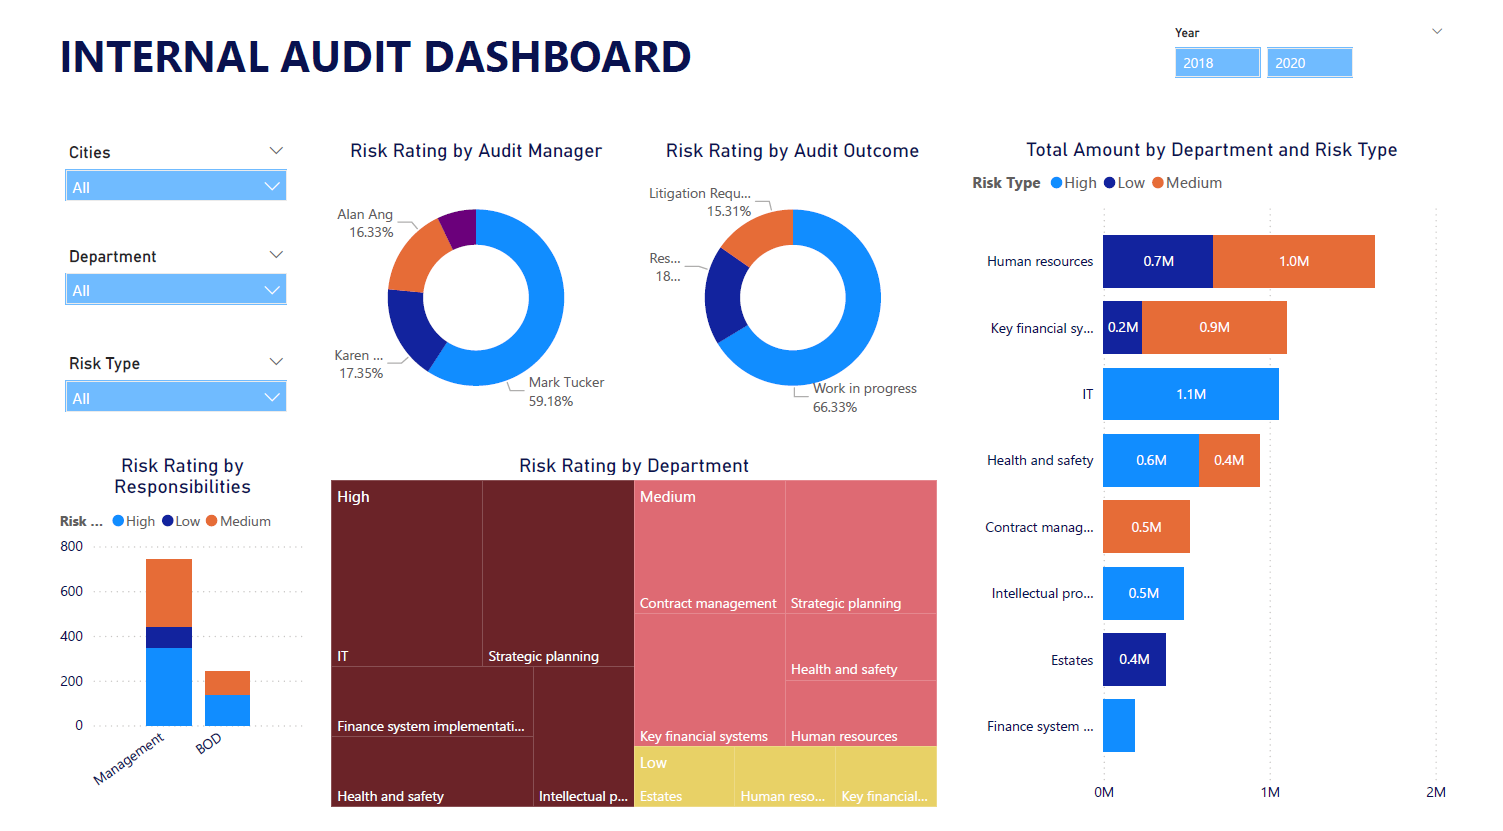

The dashboard page shown, as its layout file describes it:
{"tool":"powerbi","page":{"name":"Internal Audit Dashboard","canvas":[1280,720],"ordinal":0},"visuals":[{"type":"textbox","box":[40.4,14.4,600.2,63.5],"z":0},{"type":"slicer","fields":{"Values":["Internal Audit Dashboard.Year"]},"box":[1001.1,13.7,257.5,74.7],"z":1000},{"type":"slicer","fields":{"Values":["Internal Audit Dashboard.Cities"]},"box":[41.1,115.8,211.8,76.2],"z":2000},{"type":"slicer","fields":{"Values":["Internal Audit Dashboard.Department"]},"box":[41.1,205.7,211.8,76.2],"z":3000},{"type":"slicer","fields":{"Values":["Internal Audit Dashboard.Risk Type"]},"box":[41.1,298.7,211.8,76.2],"z":4000},{"type":"donutChart","title":"Risk Rating by Audit Manager","fields":{"Y":["Internal Audit Dashboard.Risk Rating"],"Category":["Internal Audit Dashboard.Assigned Audit Manager","Internal Audit Dashboard.Risk Type"]},"box":[277.3,117.3,260.6,257.5],"z":5000},{"type":"donutChart","title":"Risk Rating by Audit Outcome","fields":{"Y":["Internal Audit Dashboard.Risk Rating"],"Category":["Internal Audit Dashboard.Audit Outcome","Internal Audit Dashboard.Risk Type"]},"box":[551.6,117.3,260.6,257.5],"z":6000},{"type":"barChart","fields":{"Category":["Internal Audit Dashboard.Department"],"Series":["Internal Audit Dashboard.Risk Type"],"Y":["Internal Audit Dashboard.Total Amount "]},"box":[833.4,115.8,425.7,586.1],"z":8000},{"type":"treemap","title":"Risk Rating by Department","fields":{"Group":["Internal Audit Dashboard.Risk Type","Internal Audit Dashboard.Responsibilities"],"Details":["Internal Audit Dashboard.Department"],"Values":["Internal Audit Dashboard.Risk Rating"]},"box":[277.3,390.1,534.9,312.4],"z":9000},{"type":"columnChart","title":"Risk Rating by Responsibilities","fields":{"Category":["Internal Audit Dashboard.Responsibilities"],"Series":["Internal Audit Dashboard.Risk Type"],"Y":["Internal Audit Dashboard.Risk Rating"]},"box":[41.1,390.1,222.5,312.4],"z":10000}]}

Visuals, with their boxes in screenshot pixels (x1, y1, x2, y2), scaled from the page's 1280x720 canvas onto the 1503x831 screenshot:
textbox: (x1=47, y1=17, x2=752, y2=90)
slicer - Internal Audit Dashboard.Year: (x1=1176, y1=16, x2=1478, y2=102)
slicer - Internal Audit Dashboard.Cities: (x1=48, y1=134, x2=297, y2=222)
slicer - Internal Audit Dashboard.Department: (x1=48, y1=237, x2=297, y2=325)
slicer - Internal Audit Dashboard.Risk Type: (x1=48, y1=345, x2=297, y2=433)
"Risk Rating by Audit Manager" donutChart: (x1=326, y1=135, x2=632, y2=433)
"Risk Rating by Audit Outcome" donutChart: (x1=648, y1=135, x2=954, y2=433)
barChart - Internal Audit Dashboard.Department x Internal Audit Dashboard.Risk Type: (x1=979, y1=134, x2=1478, y2=810)
"Risk Rating by Department" treemap: (x1=326, y1=450, x2=954, y2=811)
"Risk Rating by Responsibilities" columnChart: (x1=48, y1=450, x2=310, y2=811)
